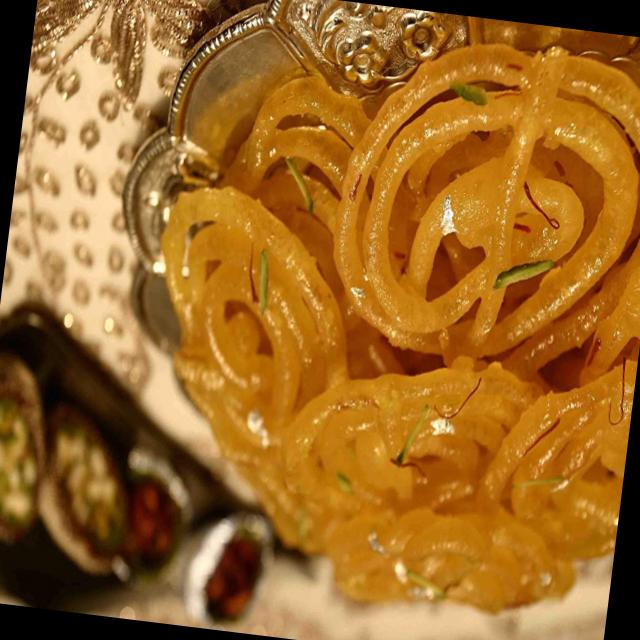jalebi: (130, 0, 640, 611)
